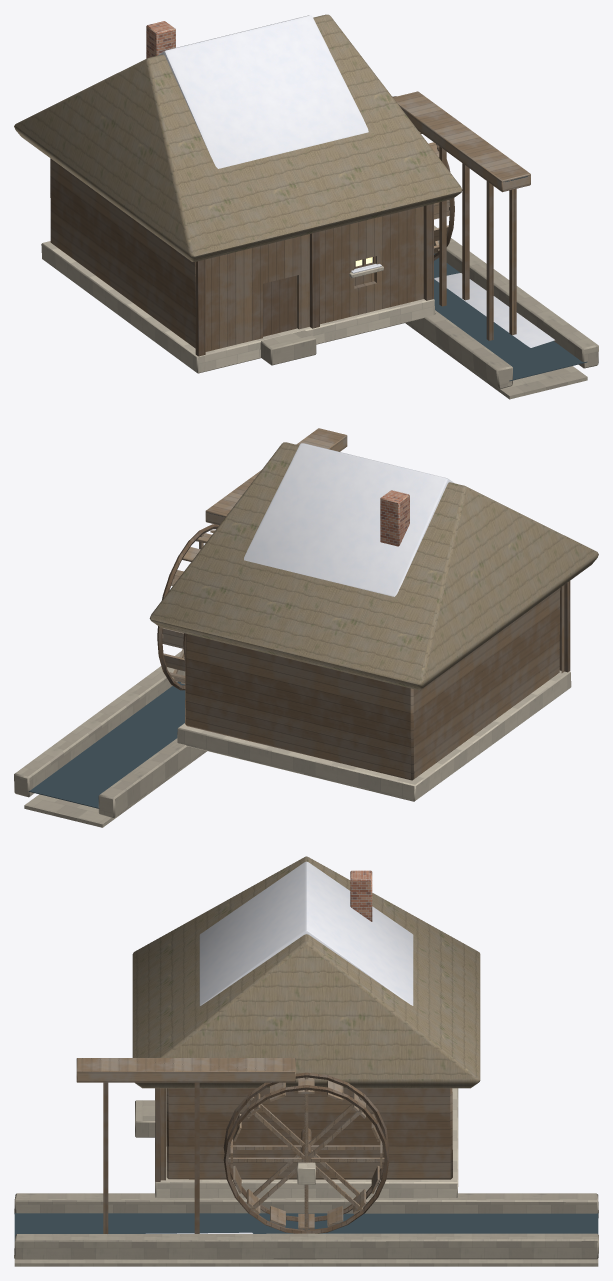
File: farm_mill.glb
The picture shows the model from 3 angles, top to bottom: view 1: azimuth 30°, elevation 25°; view 2: azimuth 150°, elevation 25°; view 3: azimuth 270°, elevation 25°; orthographic projection. The views are drawn at different scales.
Visible parts, largest first — view 1: farm_mill; view 2: farm_mill; view 3: farm_mill.
Boxes of the visible parts, x1,y1,x2,y2 form: farm_mill: [14, 14, 598, 399]; farm_mill: [14, 428, 598, 827]; farm_mill: [14, 856, 598, 1266].
Size of what is drawn, in the model's own units: 10.65 by 8.37 by 16.03.
10 materials, 9 textured.
